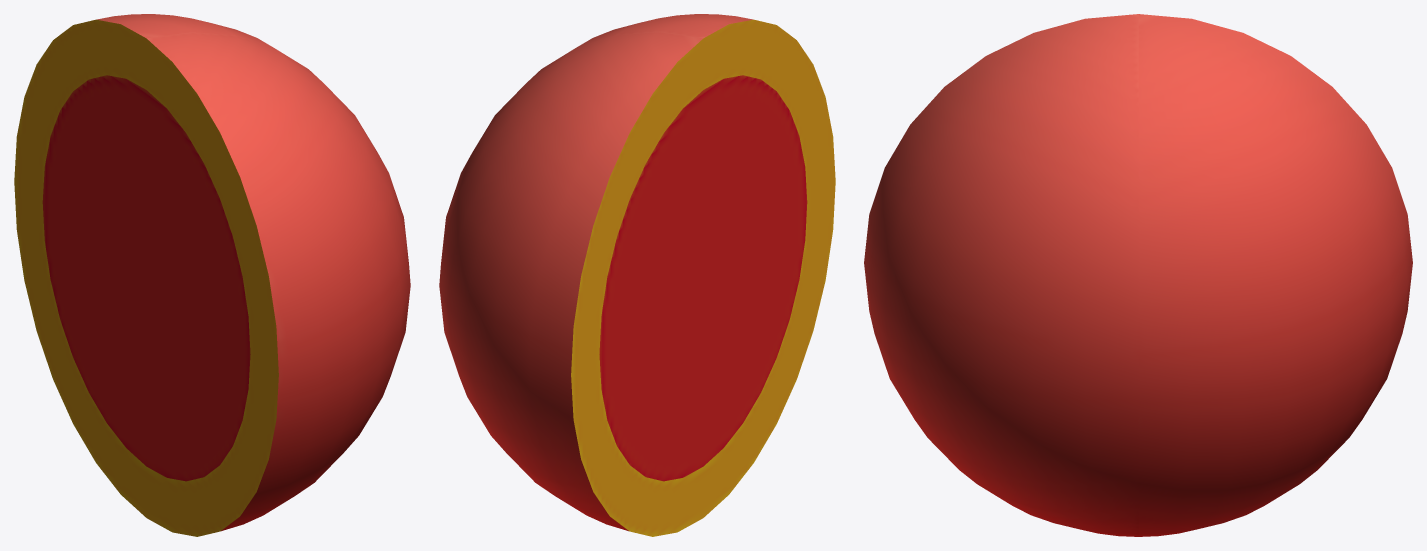
The picture shows the model from 3 angles, left to right: view 1: azimuth 30°, elevation 25°; view 2: azimuth 150°, elevation 25°; view 3: azimuth 270°, elevation 25°; orthographic projection. The views are drawn at different scales.
Visible parts, largest first — view 1: 对象001; view 2: 对象001; view 3: 对象001.
Part boxes in pixels (x1,y1,x2,y2): 对象001: (14, 14, 410, 536); 对象001: (439, 14, 835, 536); 对象001: (864, 14, 1412, 536).
Size of the model in its own units: 25 by 50 by 50.
